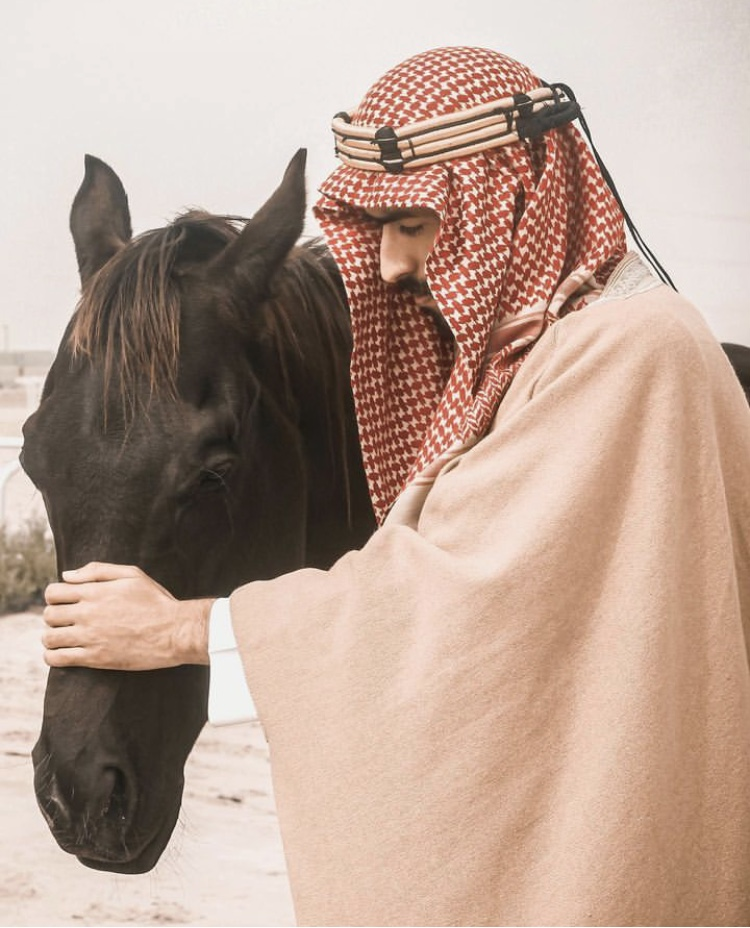Saudi_Founding_Day: (38, 43, 750, 928)
